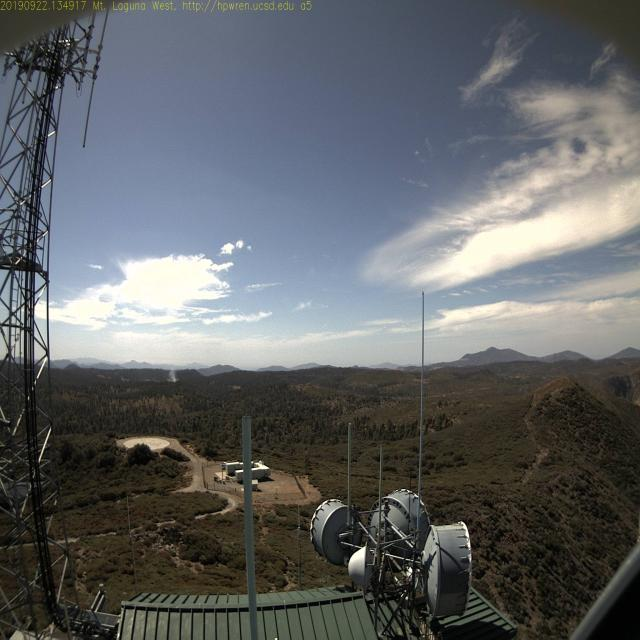smoke: (160, 358, 182, 384)
